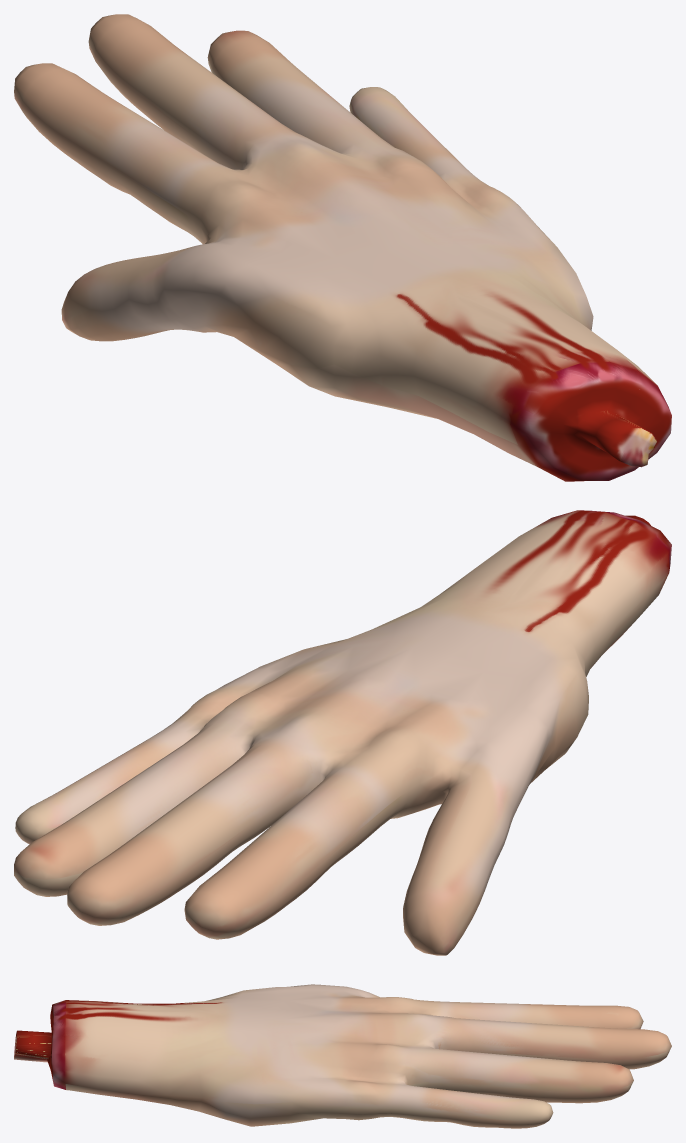
The model's file is Severed_Hand.obj.
3 views of the same model, one above another, from view 1: azimuth 30°, elevation 25°; view 2: azimuth 150°, elevation 25°; view 3: azimuth 270°, elevation 25° (orthographic). The views are drawn at different scales.
Visible parts, largest first — view 1: body.003; view 2: body.003; view 3: body.003.
Part boxes in pixels (bbox=[...]): body.003: bbox=[14, 14, 671, 481]; body.003: bbox=[14, 510, 671, 955]; body.003: bbox=[14, 984, 671, 1128].
Bounding box in the file's own units: 0.1178 × 0.0511 × 0.2882.
1 material, 1 textured.
